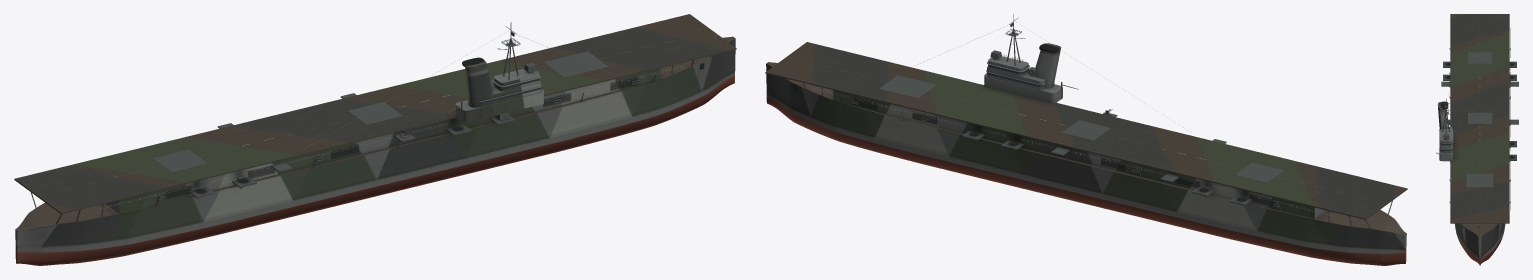
Rendered from zuikaku-cv-blender.glb.
3 views of the same model, side by side, from view 1: azimuth 30°, elevation 25°; view 2: azimuth 150°, elevation 25°; view 3: azimuth 270°, elevation 25° (orthographic). The views are drawn at different scales.
Visible parts, largest first — view 1: Bottom, FlightDeck; view 2: Bottom, FlightDeck; view 3: FlightDeck, Bottom.
Part boxes in pixels (x1,y1,x2,y2): Bottom: (15,22,735,265); FlightDeck: (14,14,736,214); Bottom: (766,14,1406,265); FlightDeck: (765,42,1407,219); FlightDeck: (1450,14,1509,223); Bottom: (1438,28,1518,265).
Bounding box in the file's own units: 257 × 53.81 × 40.56.
3 materials, 1 textured.
